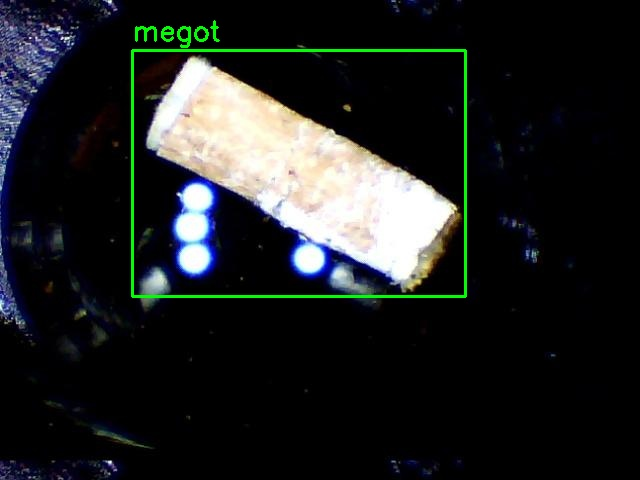megot: (132, 50, 465, 296)
